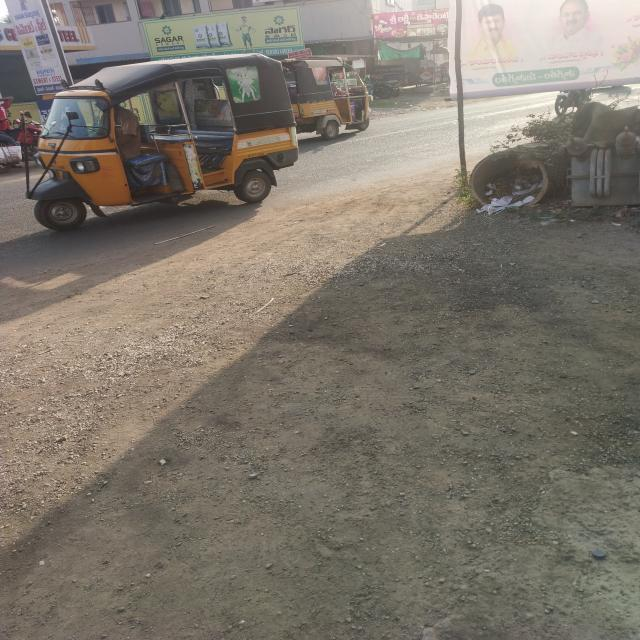auto_back: (268, 52, 376, 146)
auto_front: (25, 48, 316, 240)
